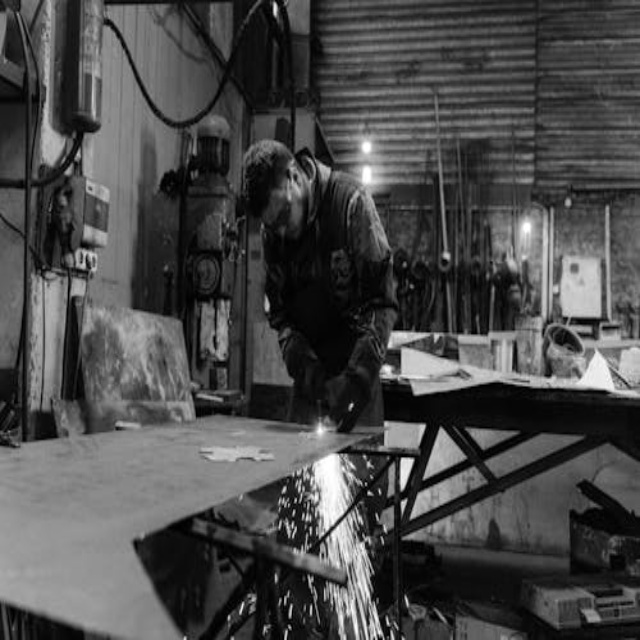Gafas: (265, 182, 293, 236)
Guantes: (321, 362, 372, 434), (281, 330, 326, 404)
